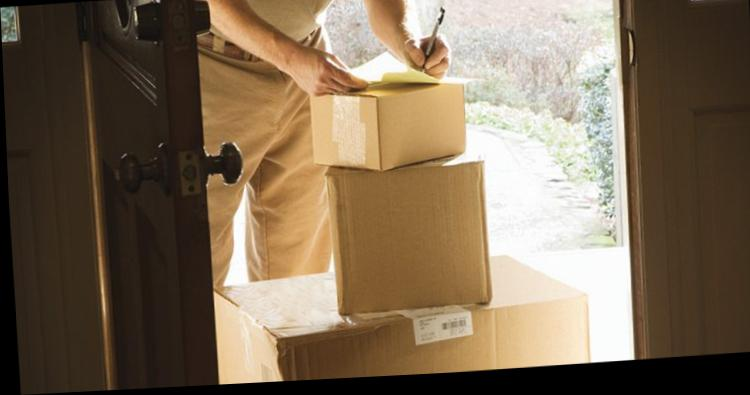cardboard: (215, 255, 589, 382), (619, 0, 749, 356), (327, 161, 490, 313), (207, 0, 448, 94), (311, 82, 465, 169)
